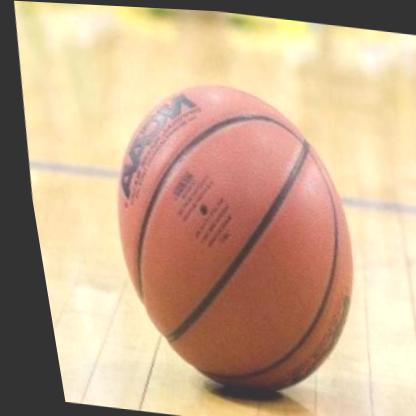basketball: (74, 61, 385, 416)
